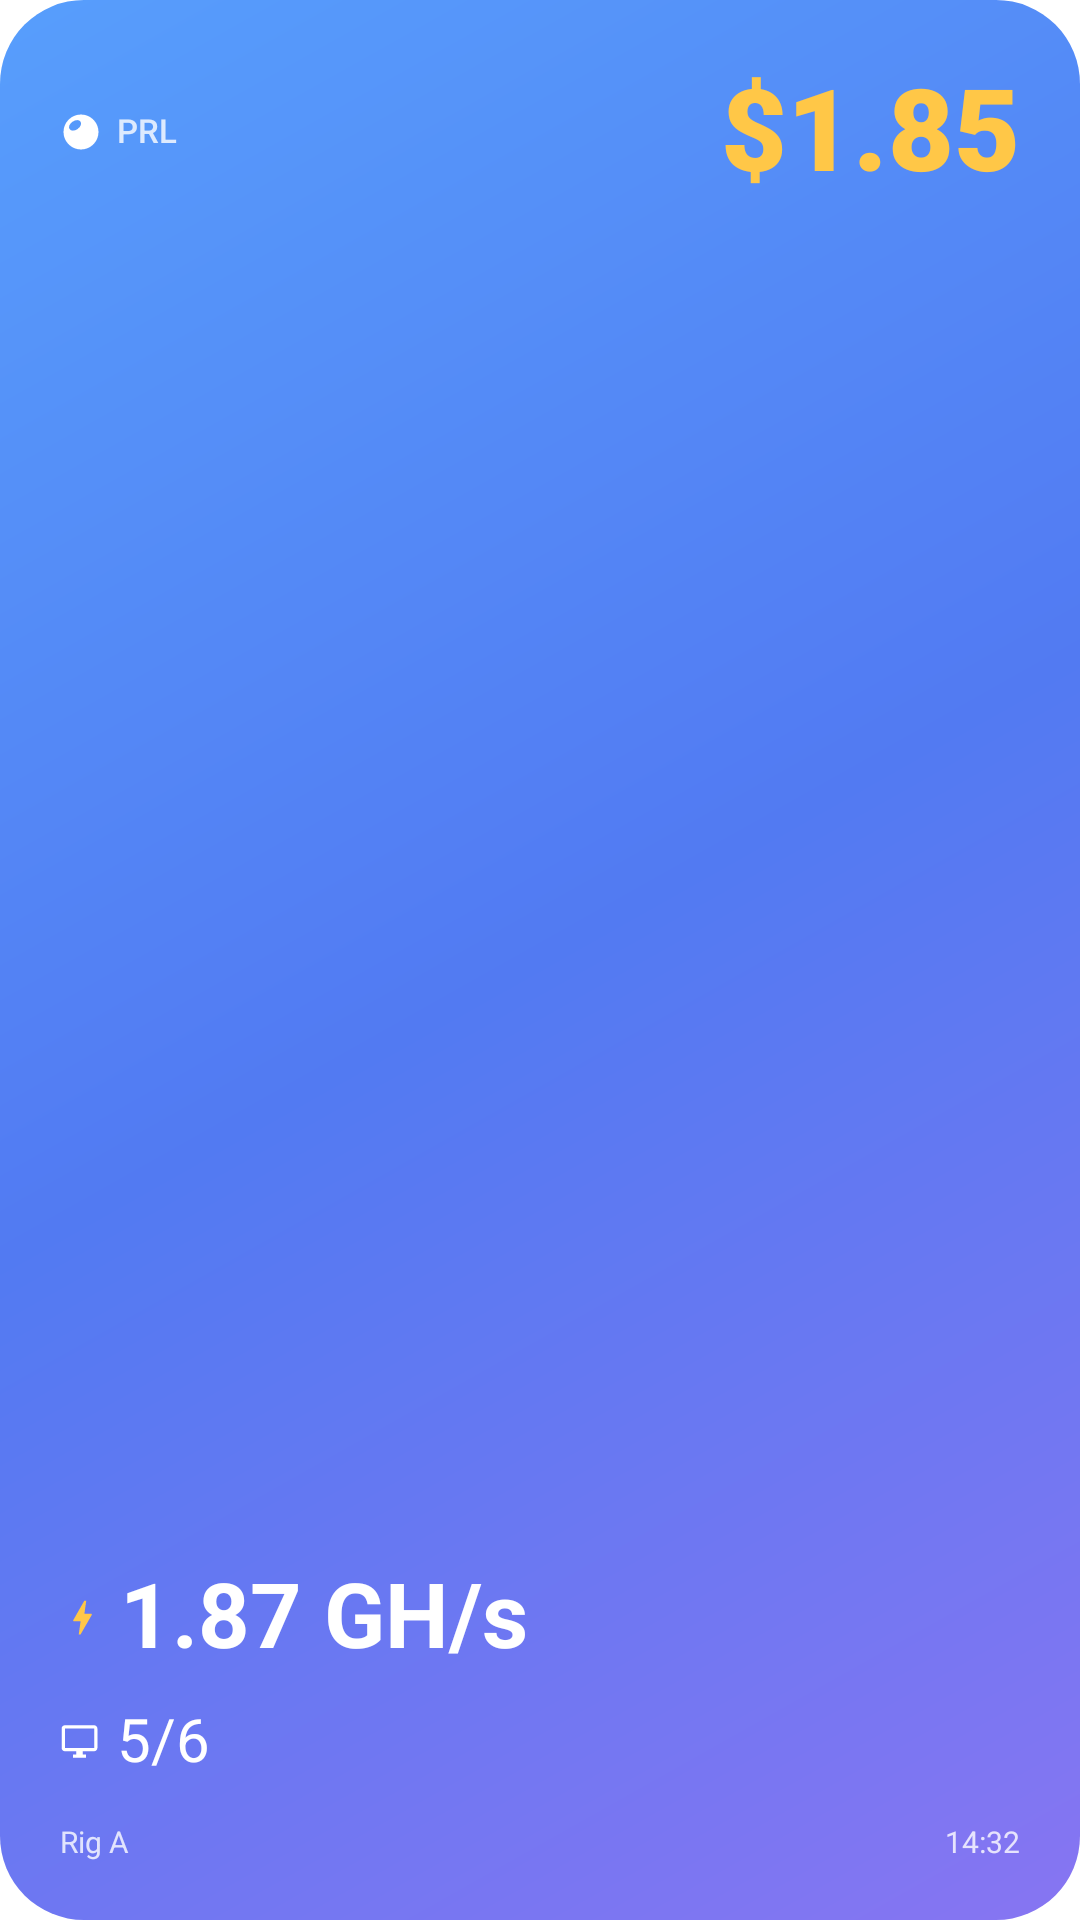

Icons on this 1080w x 1920h Android screen, each with its box as (x1, y1, x2, y2):
pearl: (63, 114, 99, 150)
widget bolt: (73, 1600, 92, 1635)
widget desktop: (61, 1725, 98, 1758)
